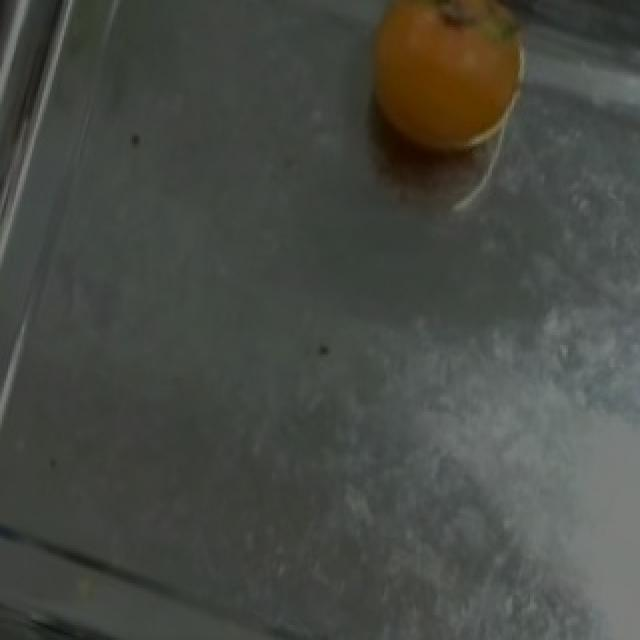Fruit: (340, 0, 552, 179)
